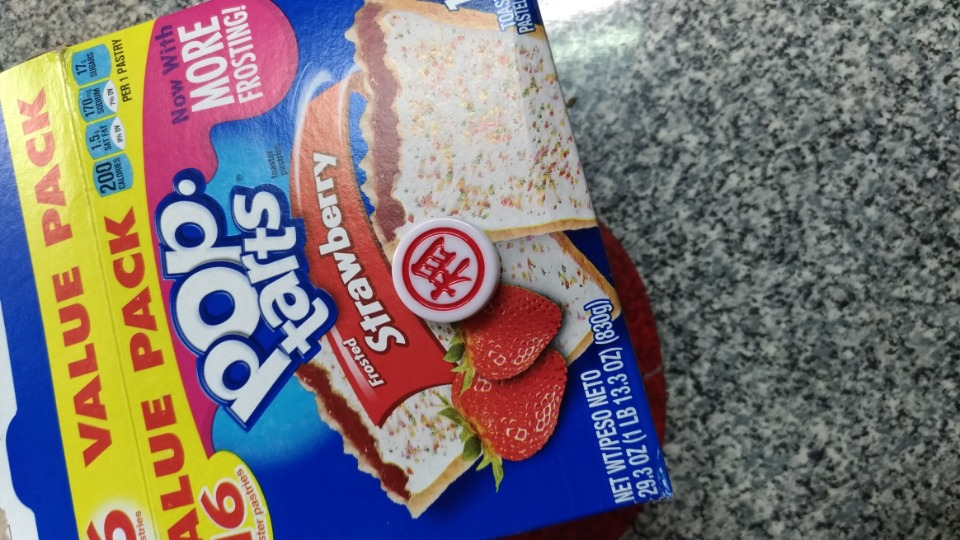r-elephant: (382, 211, 514, 325)
